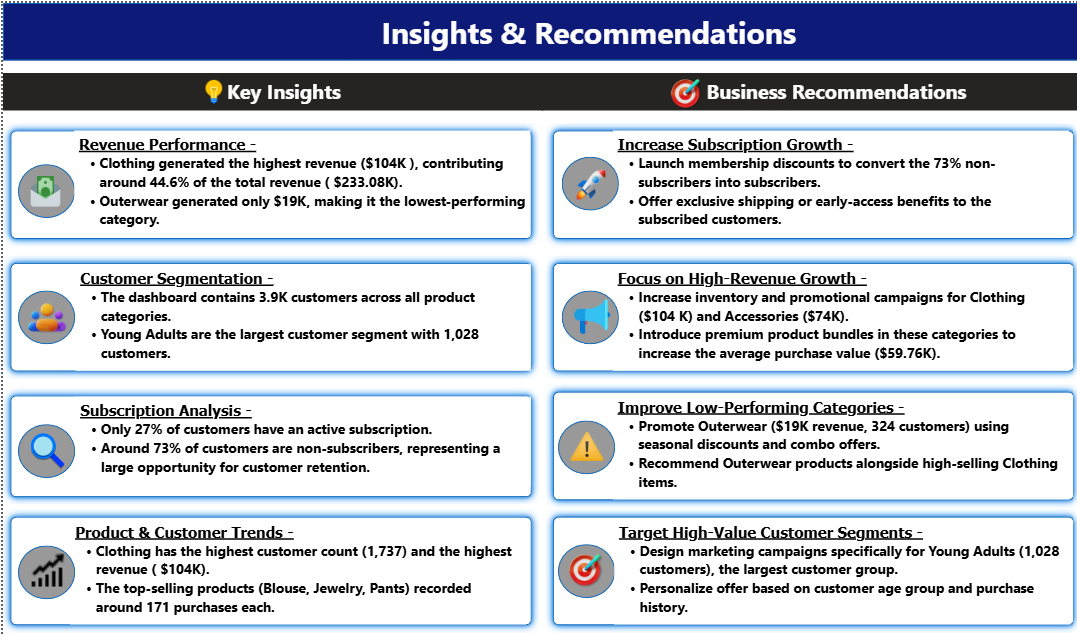

What the dashboard file says about the page in this screenshot:
{"tool":"powerbi","page":{"name":"Insights & Recommendations Page","canvas":[1150,680],"ordinal":1},"visuals":[{"type":"shape","box":[0,269.5,572,131.7],"z":0},{"type":"shape","box":[0,0,1499.9,61.3],"z":1000},{"type":"textbox","box":[398.8,3.7,456.1,57.3],"z":2000},{"type":"shape","box":[0,128,572,131.7],"z":3000},{"type":"textbox","box":[0,74.4,575.6,40.2],"z":4000},{"type":"image","box":[204.9,80.5,39,29.3],"z":5000},{"type":"shape","box":[15.9,172,61,57.3],"z":6000},{"type":"image","box":[25.6,181.7,40.2,40.2],"z":7000},{"type":"textbox","box":[75.6,136.6,486.6,113.4],"z":8000},{"type":"shape","box":[15.9,306.1,61,57.3],"z":9000},{"type":"image","box":[20.7,312.2,51.2,47.6],"z":10000},{"type":"textbox","box":[76.8,278,485.4,113.4],"z":11000},{"type":"shape","box":[0,411,572,124.4],"z":12000},{"type":"shape","box":[15.9,448.8,61,57.3],"z":13000},{"type":"image","box":[20.7,454.9,51.2,43.9],"z":14000},{"type":"textbox","box":[76.8,419.5,485.4,96.3],"z":15000},{"type":"shape","box":[0,540.2,572,131.7],"z":16000},{"type":"textbox","box":[72,548.8,485.4,113.4],"z":17000},{"type":"shape","box":[15.9,578,61,57.3],"z":18000},{"type":"image","box":[20.7,584.1,51.2,43.9],"z":19000},{"type":"textbox","box":[574.4,74.4,575.6,40.2],"z":20000},{"type":"image","box":[702.4,78,51.2,36.6],"z":21000},{"type":"shape","box":[578,128,572,131.7],"z":22000},{"type":"textbox","box":[650,136.6,486.6,113.4],"z":23000},{"type":"shape","box":[596.3,164.6,61,57.3],"z":24000},{"type":"image","box":[603.7,172,46.3,43.9],"z":25000},{"type":"shape","box":[578,269.5,572,131.7],"z":26000},{"type":"textbox","box":[650,278,486.6,113.4],"z":27000},{"type":"shape","box":[596.3,307.3,61,57.3],"z":28000},{"type":"image","box":[603.7,313.4,48.8,43.9],"z":29000},{"type":"shape","box":[578,407.3,572,131.7],"z":30000},{"type":"textbox","box":[650,415.9,486.6,113.4],"z":31000},{"type":"shape","box":[591.5,445.1,61,57.3],"z":32000},{"type":"shape","box":[578,540.2,572,131.7],"z":33000},{"type":"shape","box":[591.5,576.8,61,57.3],"z":34000},{"type":"textbox","box":[652.4,548.8,486.6,113.4],"z":35000},{"type":"image","box":[595.1,585.4,52.4,40.2],"z":36000},{"type":"image","box":[601.2,453.7,42.7,40.2],"z":37000}]}

Visuals, with their boxes in screenshot pixels (x1, y1, x2, y2), scaled from the page's 1150x680 canvas onto the 1077x635 screenshot:
shape: rect(0, 252, 536, 375)
shape: rect(0, 0, 1076, 57)
textbox: rect(373, 3, 801, 57)
shape: rect(0, 120, 536, 243)
textbox: rect(0, 69, 539, 107)
image: rect(192, 75, 228, 103)
shape: rect(15, 161, 72, 214)
image: rect(24, 170, 62, 207)
textbox: rect(71, 128, 527, 233)
shape: rect(15, 286, 72, 339)
image: rect(19, 292, 67, 336)
textbox: rect(72, 260, 527, 365)
shape: rect(0, 384, 536, 500)
shape: rect(15, 419, 72, 473)
image: rect(19, 425, 67, 466)
textbox: rect(72, 392, 527, 482)
shape: rect(0, 504, 536, 627)
textbox: rect(67, 512, 522, 618)
shape: rect(15, 540, 72, 593)
image: rect(19, 545, 67, 586)
textbox: rect(538, 69, 1076, 107)
image: rect(658, 73, 706, 107)
shape: rect(541, 120, 1076, 243)
textbox: rect(609, 128, 1064, 233)
shape: rect(558, 154, 616, 207)
image: rect(565, 161, 609, 202)
shape: rect(541, 252, 1076, 375)
textbox: rect(609, 260, 1064, 365)
shape: rect(558, 287, 616, 340)
image: rect(565, 293, 611, 334)
shape: rect(541, 380, 1076, 503)
textbox: rect(609, 388, 1064, 494)
shape: rect(554, 416, 611, 469)
shape: rect(541, 504, 1076, 627)
shape: rect(554, 539, 611, 592)
textbox: rect(611, 512, 1067, 618)
image: rect(557, 547, 606, 584)
image: rect(563, 424, 603, 461)
